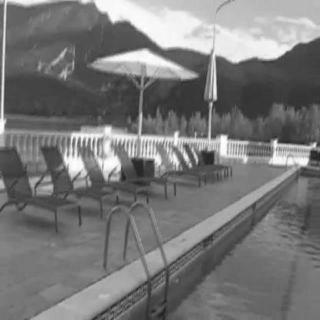other: (70, 125, 242, 159)
